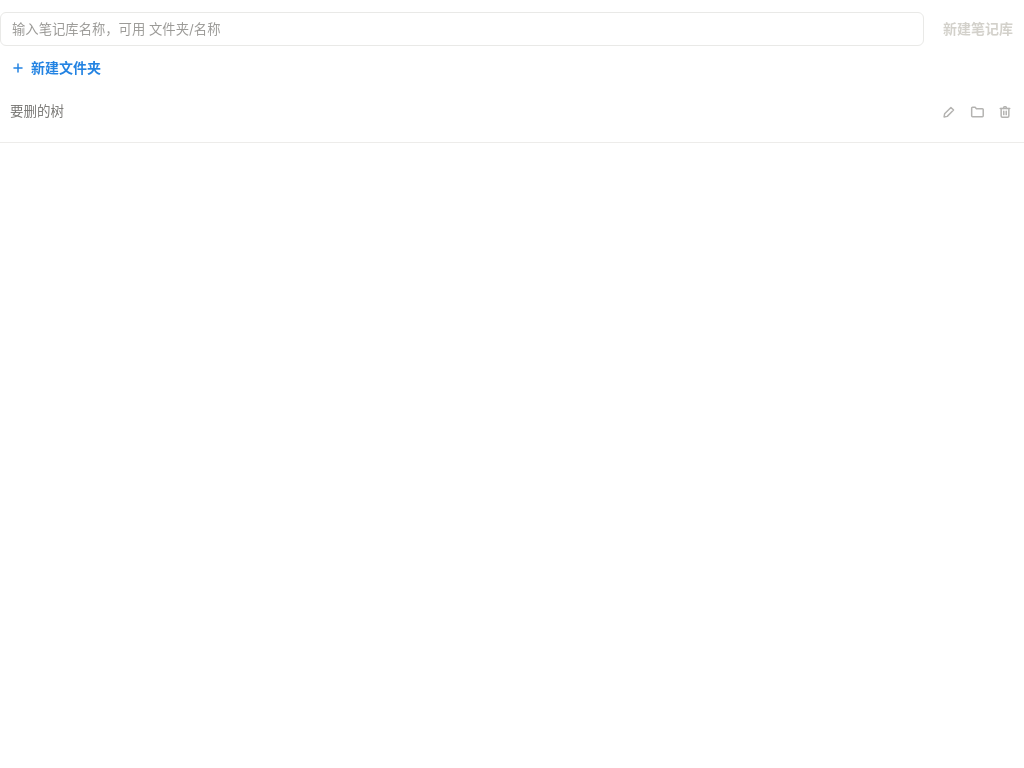
Test: TreeLauncher › deletes a tree from the list after confirming
Check: the button "要删的树" is shown, box [0, 94, 940, 130]
Click the button named "删除“要删的树”" at (1011, 112), box [998, 98, 1023, 126]
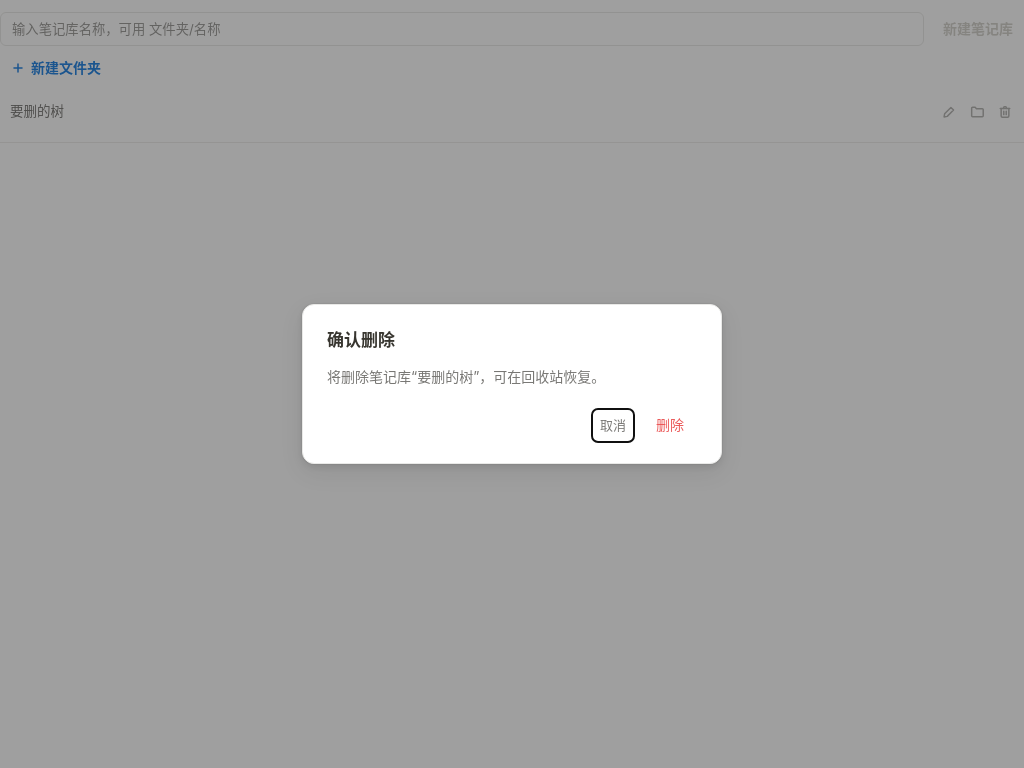
Check: the dialog "确认删除" shows "将删除笔记库“要删的树”，可在回收站恢复。", box [327, 368, 605, 384]
Click the button "删除" at (670, 426), box [643, 408, 697, 443]
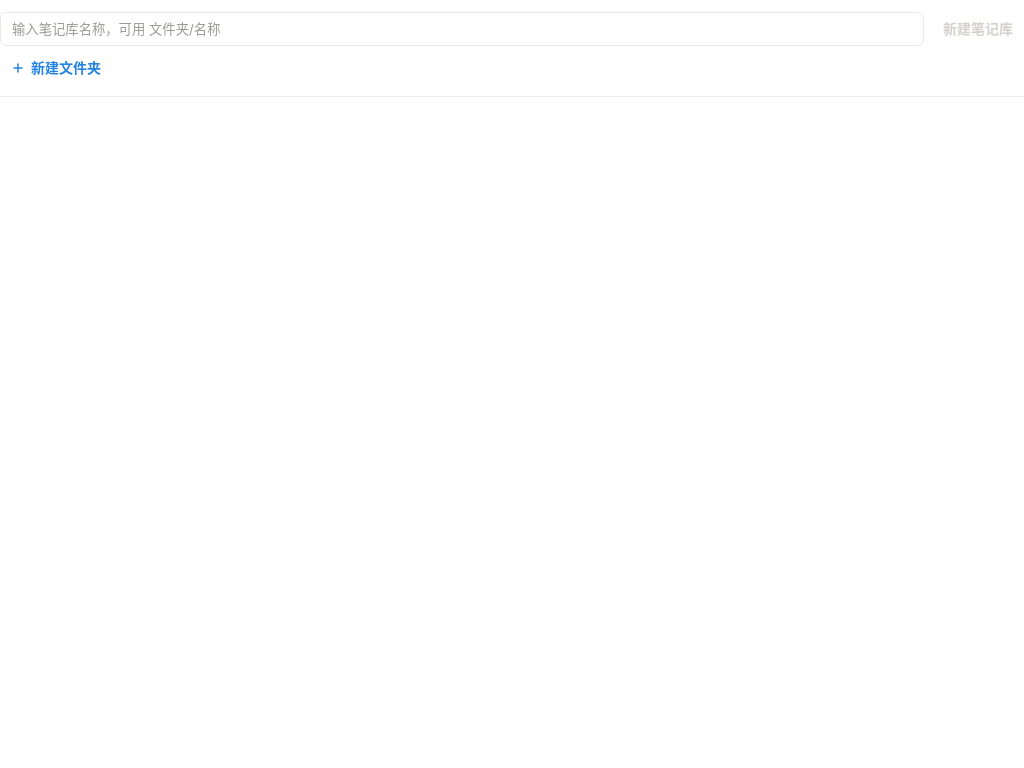
Check: the button "要删的树" is gone
Check: the dialog is gone
